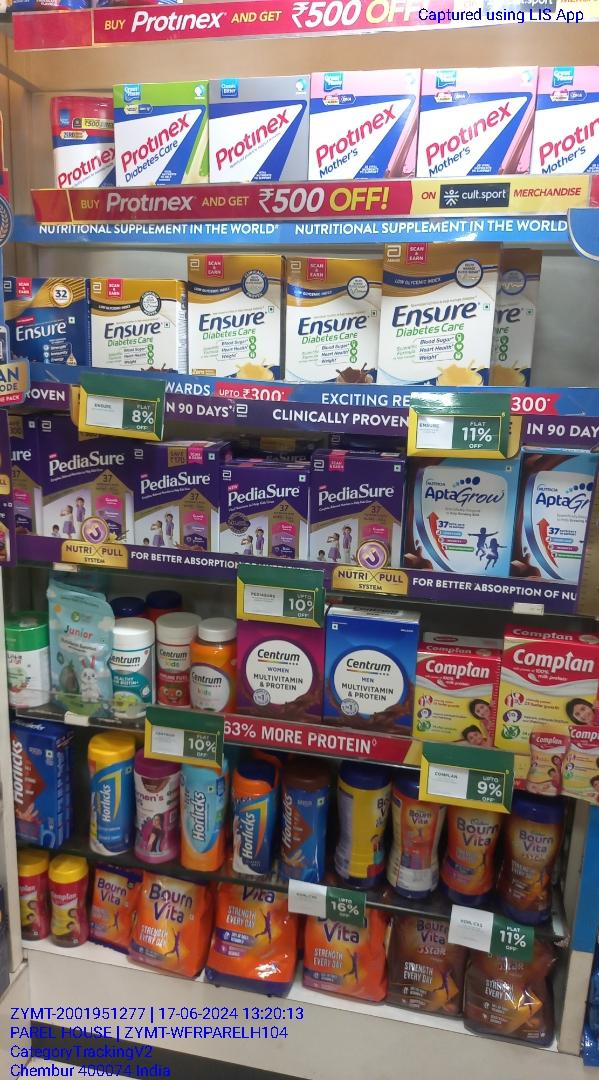BOURN_VITA_500_G_JAR: (448, 801, 501, 906), (394, 784, 442, 899)
BOURN_VITA_500_G_POUCH: (135, 871, 198, 978)
BOURN_VITA_750_G_POUCH: (210, 883, 294, 995)
BOURN_VITA_75_G_POUCH: (90, 868, 131, 955)
BOURN_VITA_CHAMPS_500_G_JAR: (350, 769, 391, 889)
BOURN_VITA_FIVE_STAR_MAGIC_500_G_JAR: (503, 801, 558, 925)
BOURN_VITA_FIVE_STAR_MAGIC_500_G_POUCH: (465, 945, 555, 1042), (391, 913, 461, 1012)
COMPLAN_CHOCOLATE_200_GMS_JAR: (48, 869, 85, 949), (20, 865, 45, 941)
COMPLAN_KESAR_BADAM_200_GMS_PACK: (414, 651, 498, 743)
COMPLAN_KESAR_BADAM_500_GMS_PACK: (503, 639, 599, 755)
HORLICKS_JUNIOR_VANILLA_500_GM_JAR: (91, 743, 133, 856)
HORLICKS_LITE_REGULAR_MALT_500_GM_JAR: (182, 759, 226, 874)
HORLICK_CHOCOLATE_500_G_JAR: (279, 767, 327, 886)
HORLICK_CLASSIC_MALT_500_G_JAR: (231, 771, 272, 877)
PEDIASURE_CHOCOLATE_500_G_PACK: (313, 455, 401, 567), (135, 446, 218, 550), (219, 467, 307, 562)
